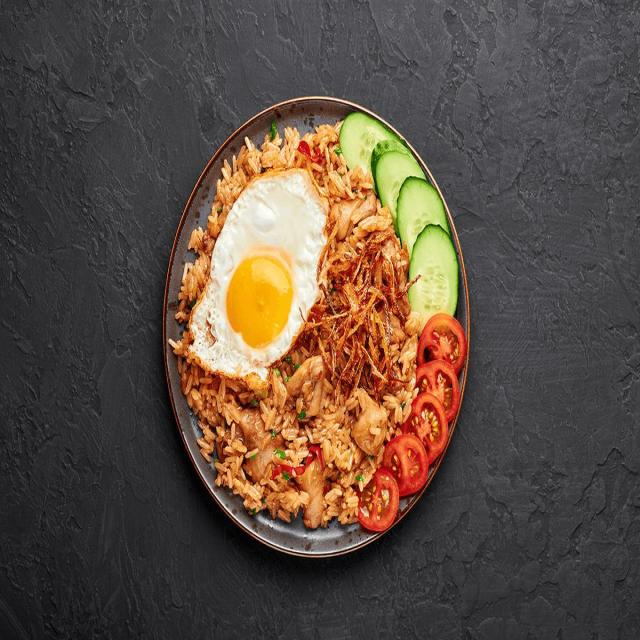Nasi Goreng: (169, 109, 467, 536)
